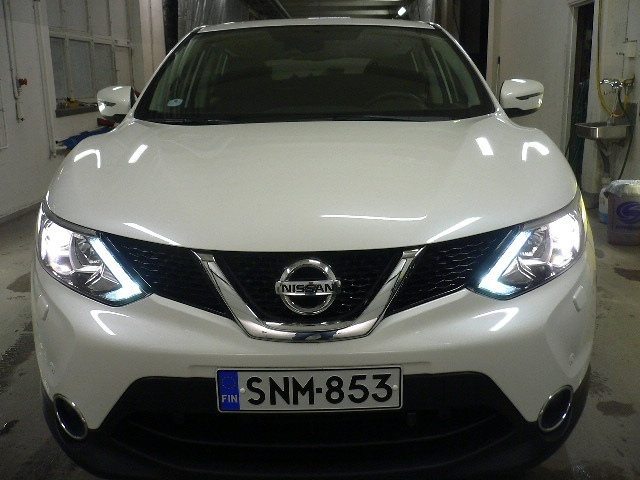license: (215, 367, 398, 418)
